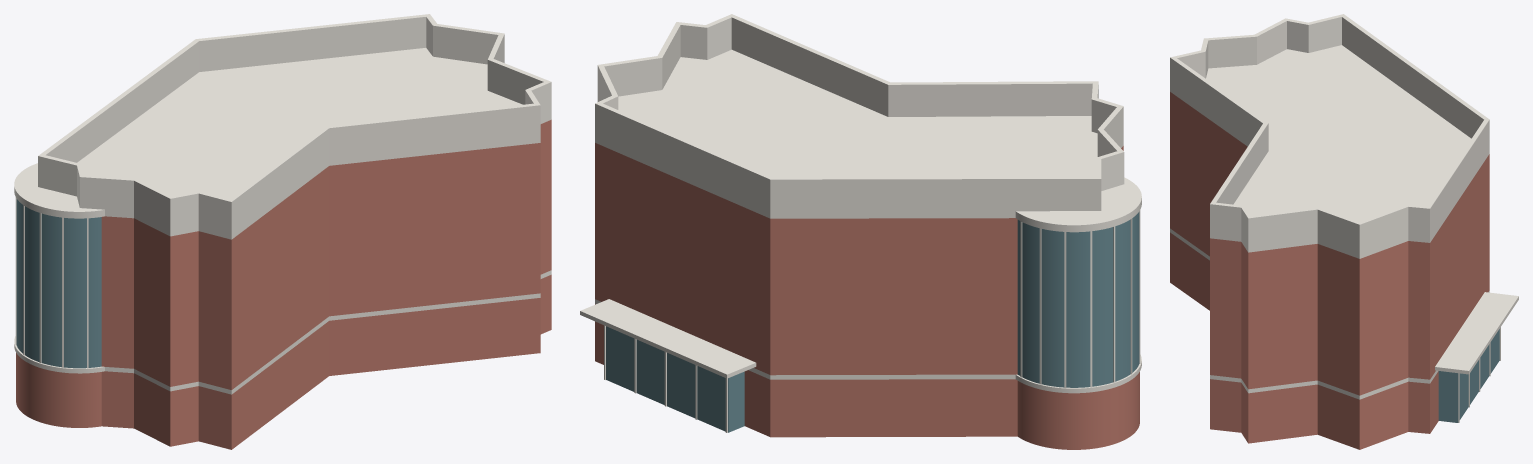
The model's file is seal.glb.
The picture shows the model from 3 angles, left to right: view 1: azimuth 30°, elevation 25°; view 2: azimuth 150°, elevation 25°; view 3: azimuth 270°, elevation 25°; orthographic projection. The views are drawn at different scales.
Parts seen in each view (by area): view 1: SOL_tower, SOL_roof_slab, SOL_parapet, SOL_podium, SOL_glass_tower, SOL_band_0; view 2: SOL_tower, SOL_roof_slab, SOL_parapet, SOL_podium, SOL_glass_tower, SOL_atrium, SOL_canopy, SOL_band_0; view 3: SOL_tower, SOL_roof_slab, SOL_parapet, SOL_podium, SOL_canopy, SOL_atrium, SOL_band_0.
Part boxes in pixels (x1=…): SOL_tower: x1=101, y1=119, x2=551, y2=389; SOL_roof_slab: x1=14, y1=48, x2=551, y2=239; SOL_parapet: x1=38, y1=14, x2=551, y2=232; SOL_podium: x1=16, y1=274, x2=551, y2=449; SOL_glass_tower: x1=16, y1=199, x2=101, y2=368; SOL_band_0: x1=14, y1=270, x2=551, y2=394; SOL_tower: x1=595, y1=143, x2=1123, y2=375; SOL_roof_slab: x1=595, y1=49, x2=1141, y2=232; SOL_parapet: x1=595, y1=14, x2=1124, y2=211; SOL_podium: x1=595, y1=304, x2=1139, y2=449; SOL_glass_tower: x1=1017, y1=212, x2=1139, y2=387; SOL_atrium: x1=606, y1=326, x2=744, y2=432; SOL_canopy: x1=580, y1=299, x2=756, y2=378; SOL_band_0: x1=595, y1=299, x2=1141, y2=393; SOL_tower: x1=1170, y1=92, x2=1489, y2=395; SOL_roof_slab: x1=1170, y1=45, x2=1489, y2=258; SOL_parapet: x1=1170, y1=14, x2=1489, y2=252; SOL_podium: x1=1170, y1=232, x2=1438, y2=449; SOL_canopy: x1=1435, y1=292, x2=1518, y2=374; SOL_atrium: x1=1438, y1=329, x2=1499, y2=422; SOL_band_0: x1=1170, y1=228, x2=1489, y2=399.
Bounding box in the file's own units: 47.13 × 22.4 × 31.47.
